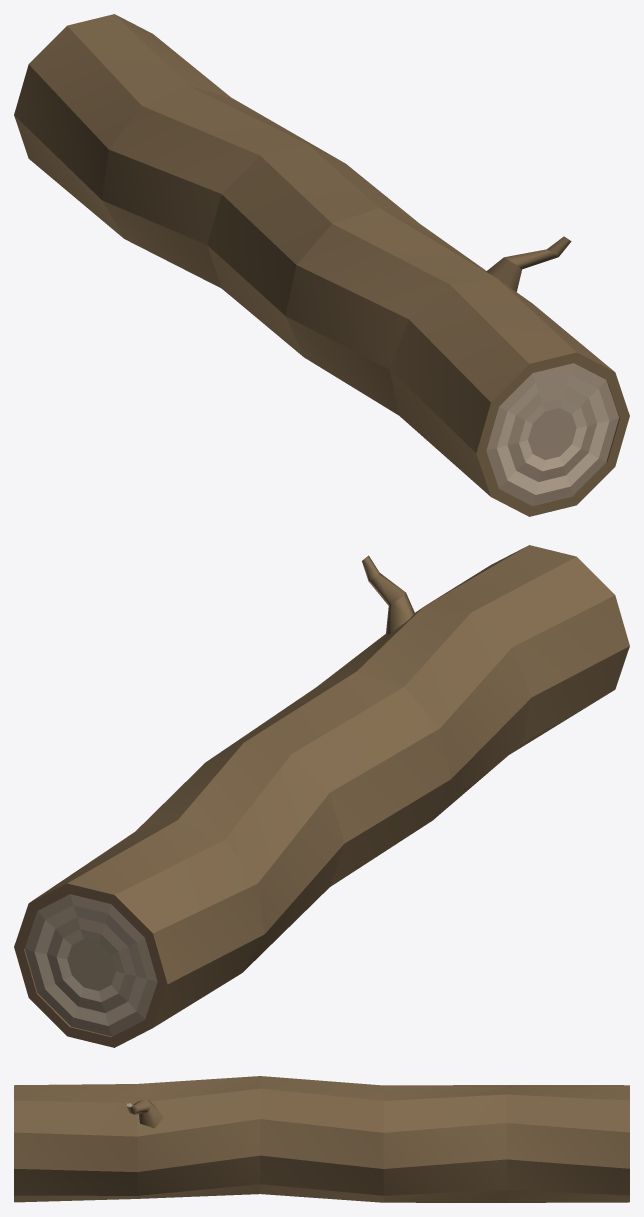
File: trunk.fbx
3 views of the same model, one above another, from view 1: azimuth 30°, elevation 25°; view 2: azimuth 150°, elevation 25°; view 3: azimuth 270°, elevation 25° (orthographic). The views are drawn at different scales.
Parts seen in each view (by area): view 1: Material2, Material2.001, Material2.002; view 2: Material2, Material2.001, Material2.002; view 3: Material2.
Boxes of the visible parts, x1,y1,x2,y2 form: Material2: (14,14,629,516); Material2.001: (486,363,618,505); Material2.002: (497,374,609,494); Material2: (14,545,629,1047); Material2.001: (25,556,367,1036); Material2.002: (34,905,146,1025); Material2: (14,1076,629,1202).
Bounding box in the file's own units: 419 × 414 × 1800.
